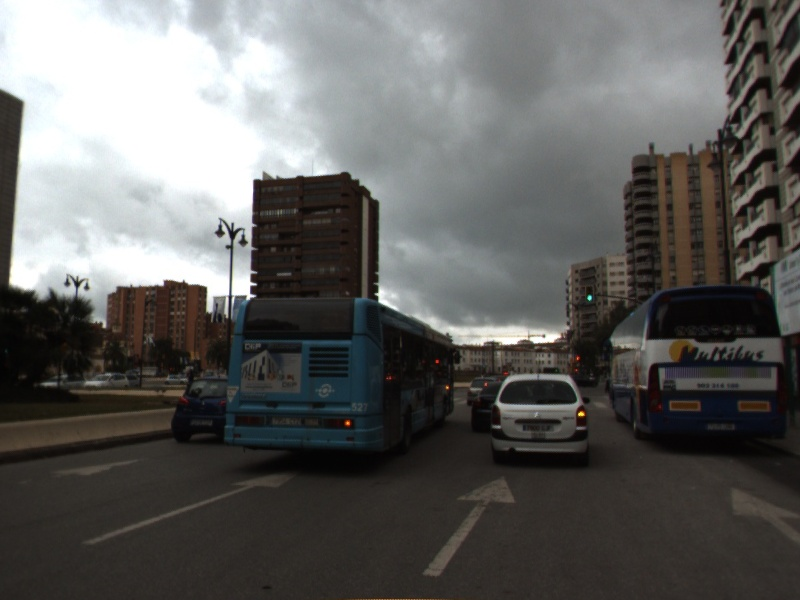STRAIGHT: (78, 465, 305, 548), (419, 472, 520, 580), (728, 484, 800, 546)
